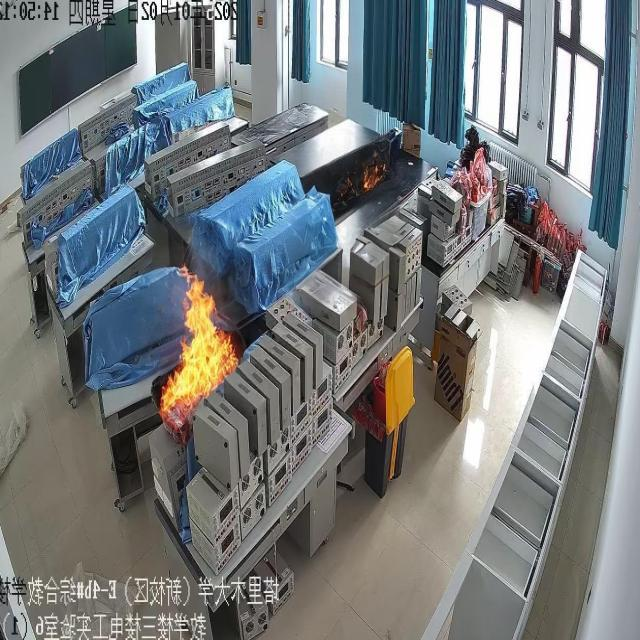smoke: (160, 260, 238, 435)
